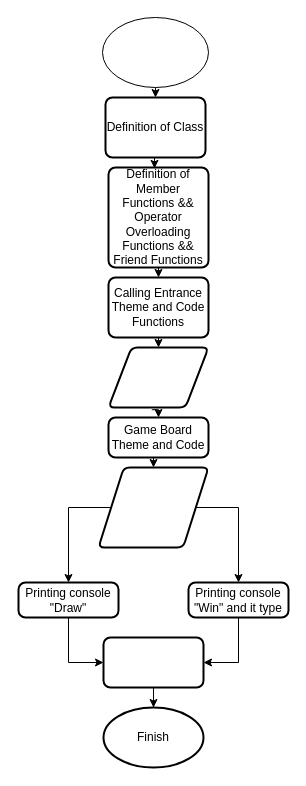
This 306x786 diagram has some shape labels left out. The shapes that lost their labels are listed below. From the top down, each one's centre as x and y in pixels, then its label:
(155,52): Start
(158,377): Taking Player Nicks from Players
(153,507): Players play the game with entering line and column number
(153,662): Printing analysis on console about game played
